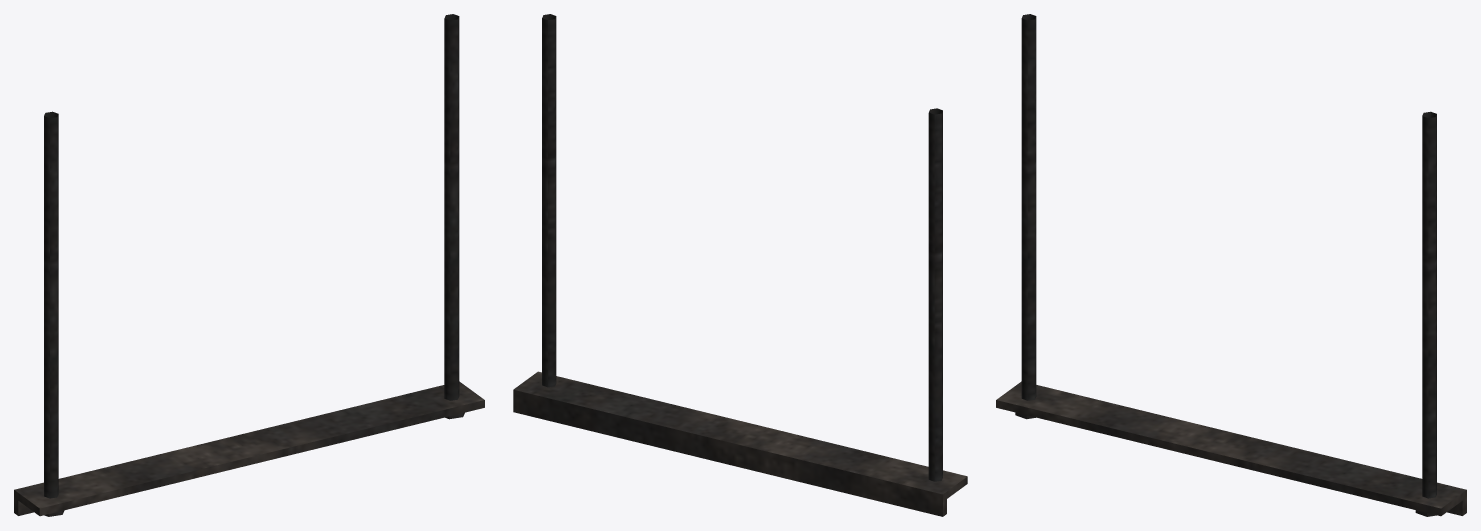
Rendered from pipes_holder_1.obj.
3 views of the same model, side by side, from view 1: azimuth 30°, elevation 25°; view 2: azimuth 150°, elevation 25°; view 3: azimuth 330°, elevation 25° (orthographic). The views are drawn at different scales.
Parts seen in each view (by area): view 1: pipes_holder_1; view 2: pipes_holder_1; view 3: pipes_holder_1.
Part boxes in pixels (x1=…): pipes_holder_1: x1=14, y1=14, x2=484, y2=516; pipes_holder_1: x1=513, y1=14, x2=967, y2=516; pipes_holder_1: x1=996, y1=14, x2=1466, y2=516.
Bounding box in the file's own units: 0.6 × 0.52 × 0.06.
